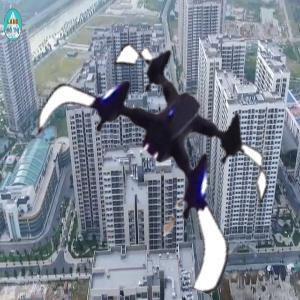drone: (32, 21, 282, 271)
